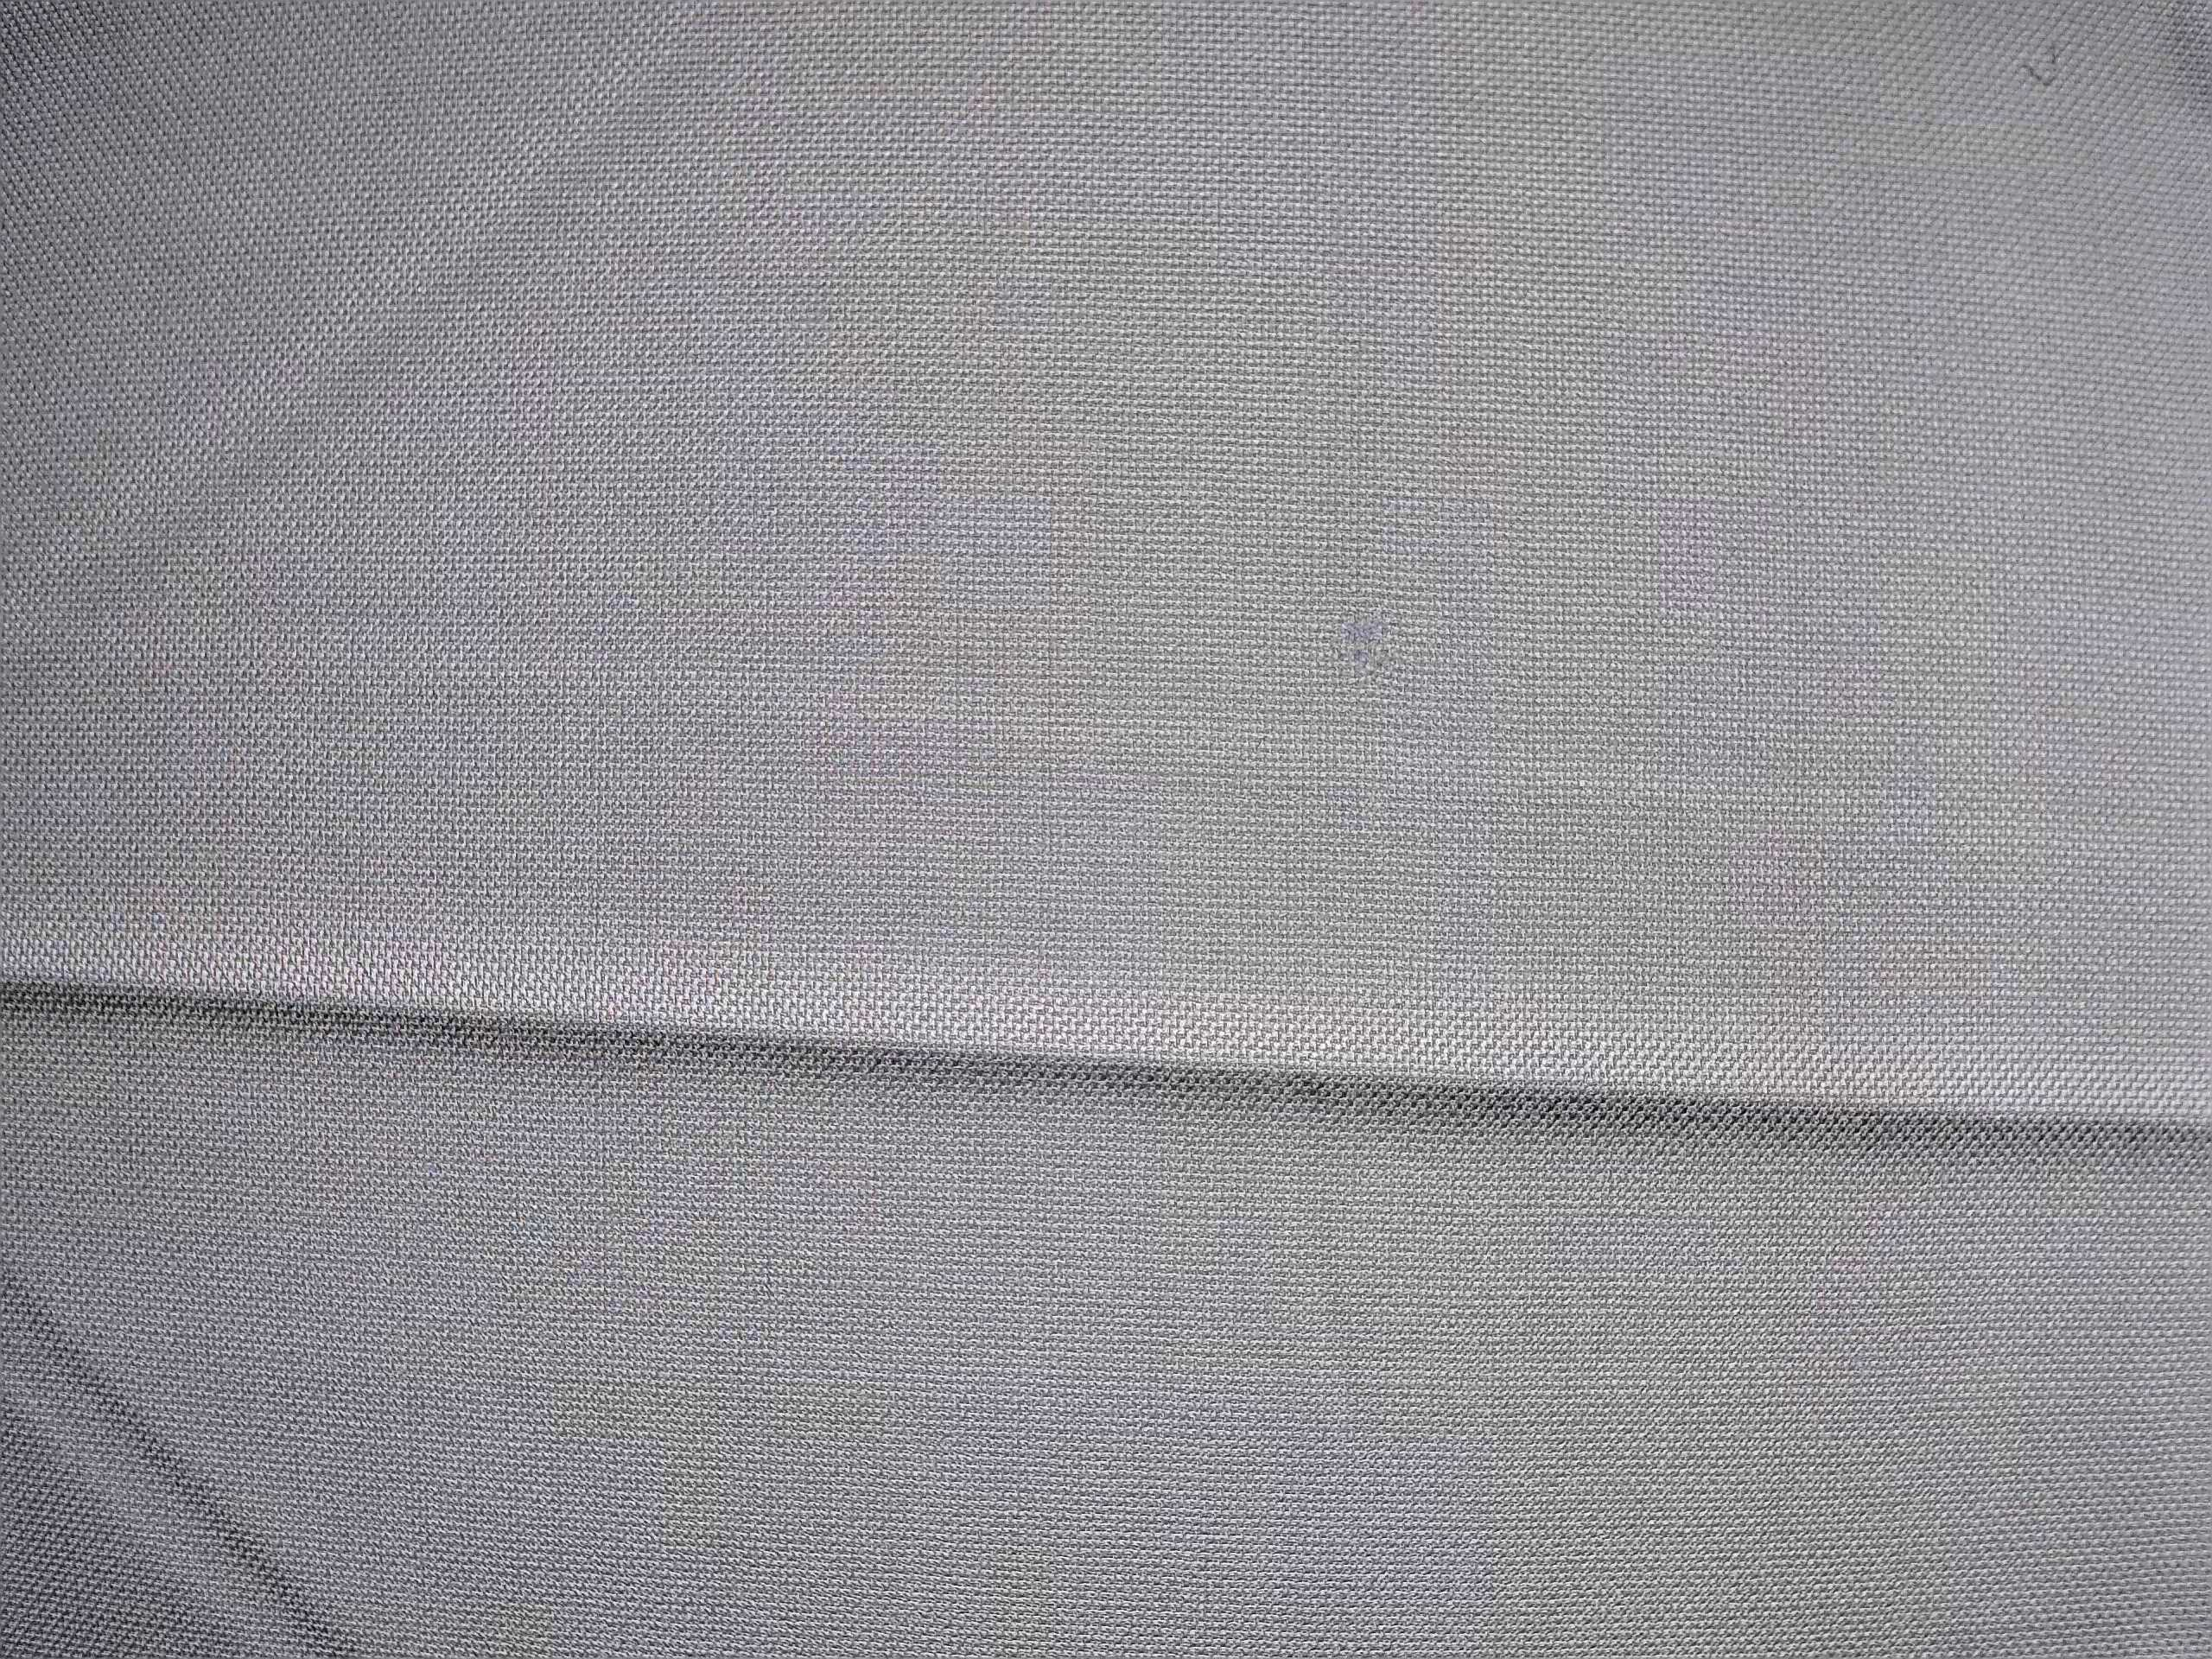brushed-hole: (1310, 547, 1433, 727)
